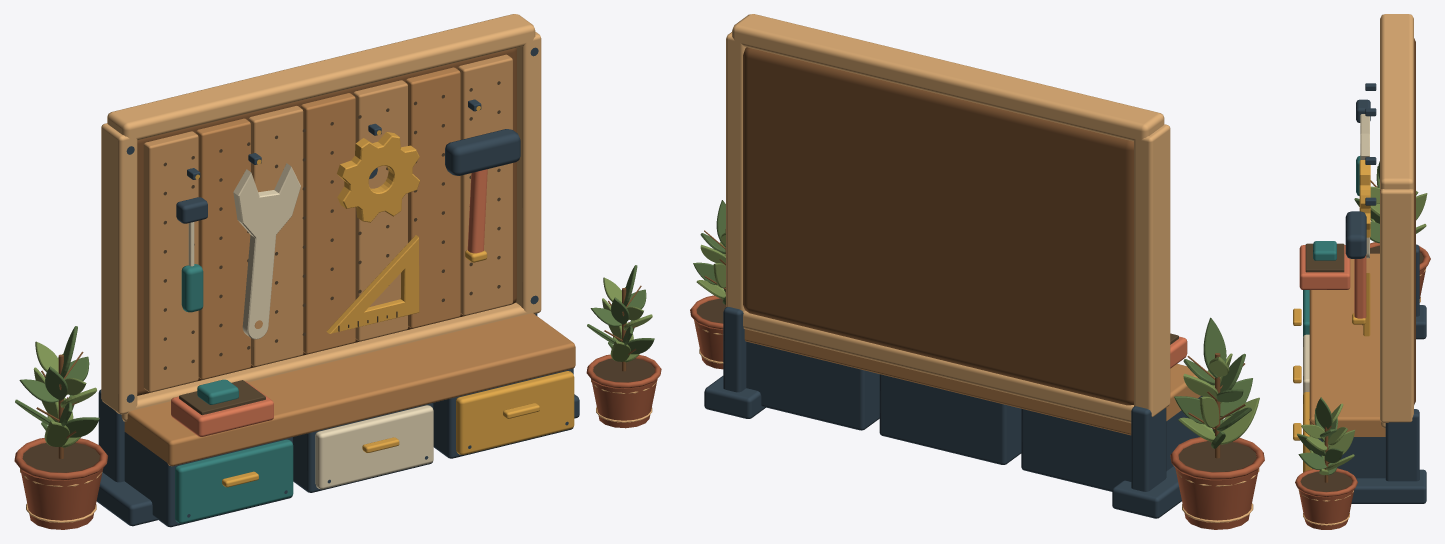
File: workshop-tool-rack-light.glb
The picture shows the model from 3 angles, left to right: view 1: azimuth 30°, elevation 25°; view 2: azimuth 150°, elevation 25°; view 3: azimuth 270°, elevation 25°; orthographic projection. The views are drawn at different scales.
Parts seen in each view (by area): view 1: timber, plank, edge, brass, navy, cream, teal, pot (×2), darkWood, coral, soil (×2), shadow; view 2: darkWood, edge, navy, pot (×2), timber, soil, Leaf 8, Leaf 1; view 3: edge (×2), timber, navy, pot (×2), coral, brass, teal, cream, soil, shadow, darkWood, Leaf 2 (×2) (+6 smaller).
Part boxes in pixels (box(x1,y1,x2,y2)): timber: box(124, 67, 575, 466); plank: box(143, 54, 512, 392); edge: box(101, 14, 541, 421); brass: box(195, 106, 574, 487); navy: box(96, 47, 579, 527); cream: box(188, 163, 433, 489); teal: box(175, 264, 293, 523); pot (×2): box(14, 354, 661, 529); darkWood: box(137, 48, 516, 395); coral: box(171, 169, 487, 436); soil (×2): box(22, 358, 654, 472); shadow: box(163, 81, 500, 415); darkWood: box(743, 47, 1133, 405); edge: box(726, 14, 1170, 423); navy: box(704, 307, 1202, 518); pot (×2): box(690, 295, 1264, 529); timber: box(744, 329, 1200, 435); soil: box(1178, 441, 1256, 472); Leaf 8: box(1203, 317, 1226, 378); Leaf 1: box(1220, 397, 1259, 444); edge (×2): box(1299, 14, 1413, 525); timber: box(1309, 253, 1385, 436); navy: box(1312, 83, 1426, 503); pot (×2): box(1295, 242, 1430, 529); coral: box(1299, 245, 1366, 318); brass: box(1293, 160, 1370, 472); teal: box(1303, 156, 1360, 336); cream: box(1303, 114, 1369, 394); soil: box(1300, 471, 1352, 491); shadow: box(1305, 243, 1362, 325); darkWood: box(1414, 38, 1415, 404); Leaf 2 (×2): box(1298, 222, 1379, 469).
Bounding box in the file's own units: 2.04 × 1.25 × 0.4885.
